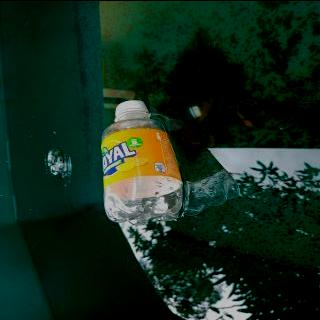bottle: (100, 98, 186, 225)
